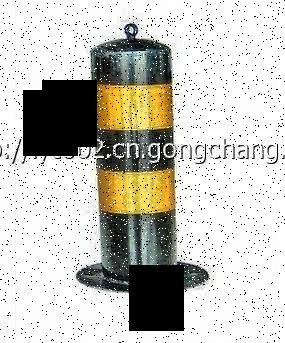bench: (74, 18, 216, 293)
